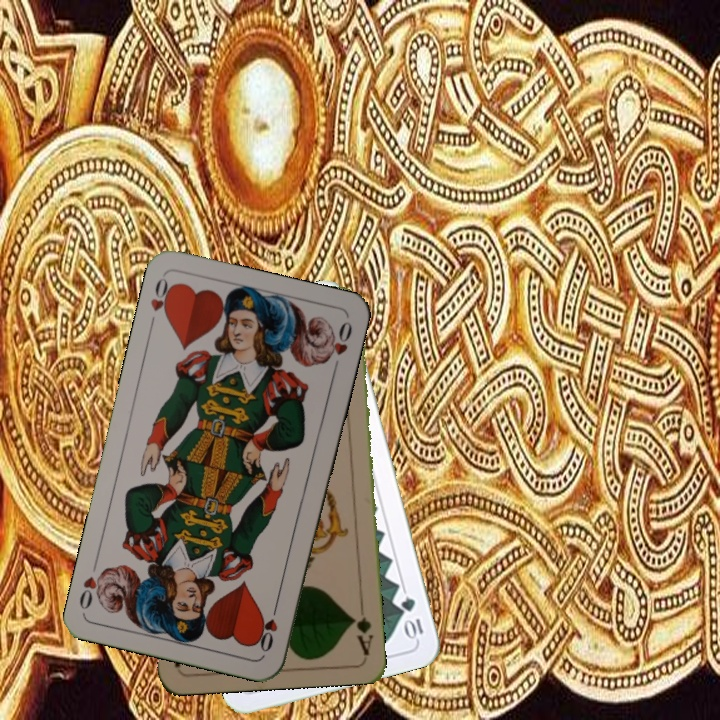G10: (397, 593, 426, 642)
GA: (348, 598, 376, 657)
HO: (145, 273, 177, 331), (256, 598, 281, 655)
